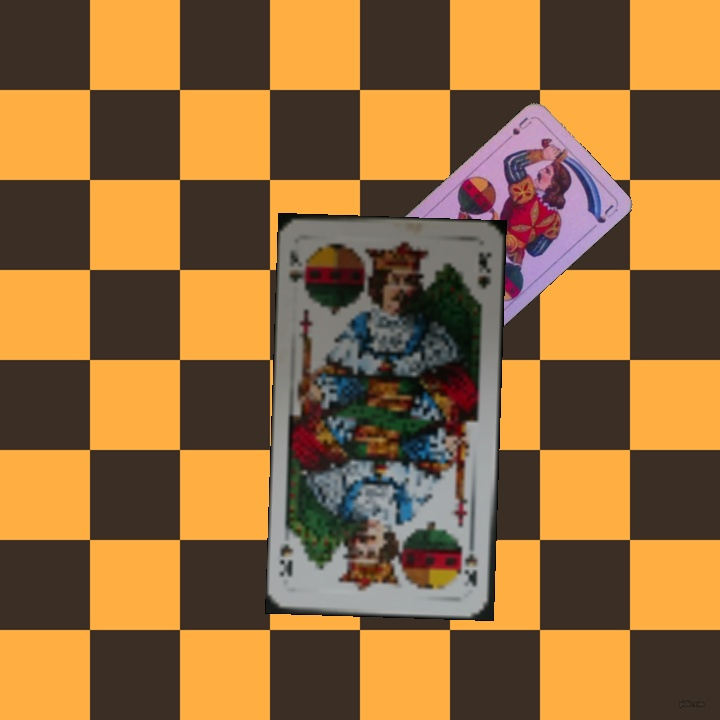SK: (284, 245, 311, 294), (459, 534, 480, 589)
SU: (508, 113, 536, 138)
